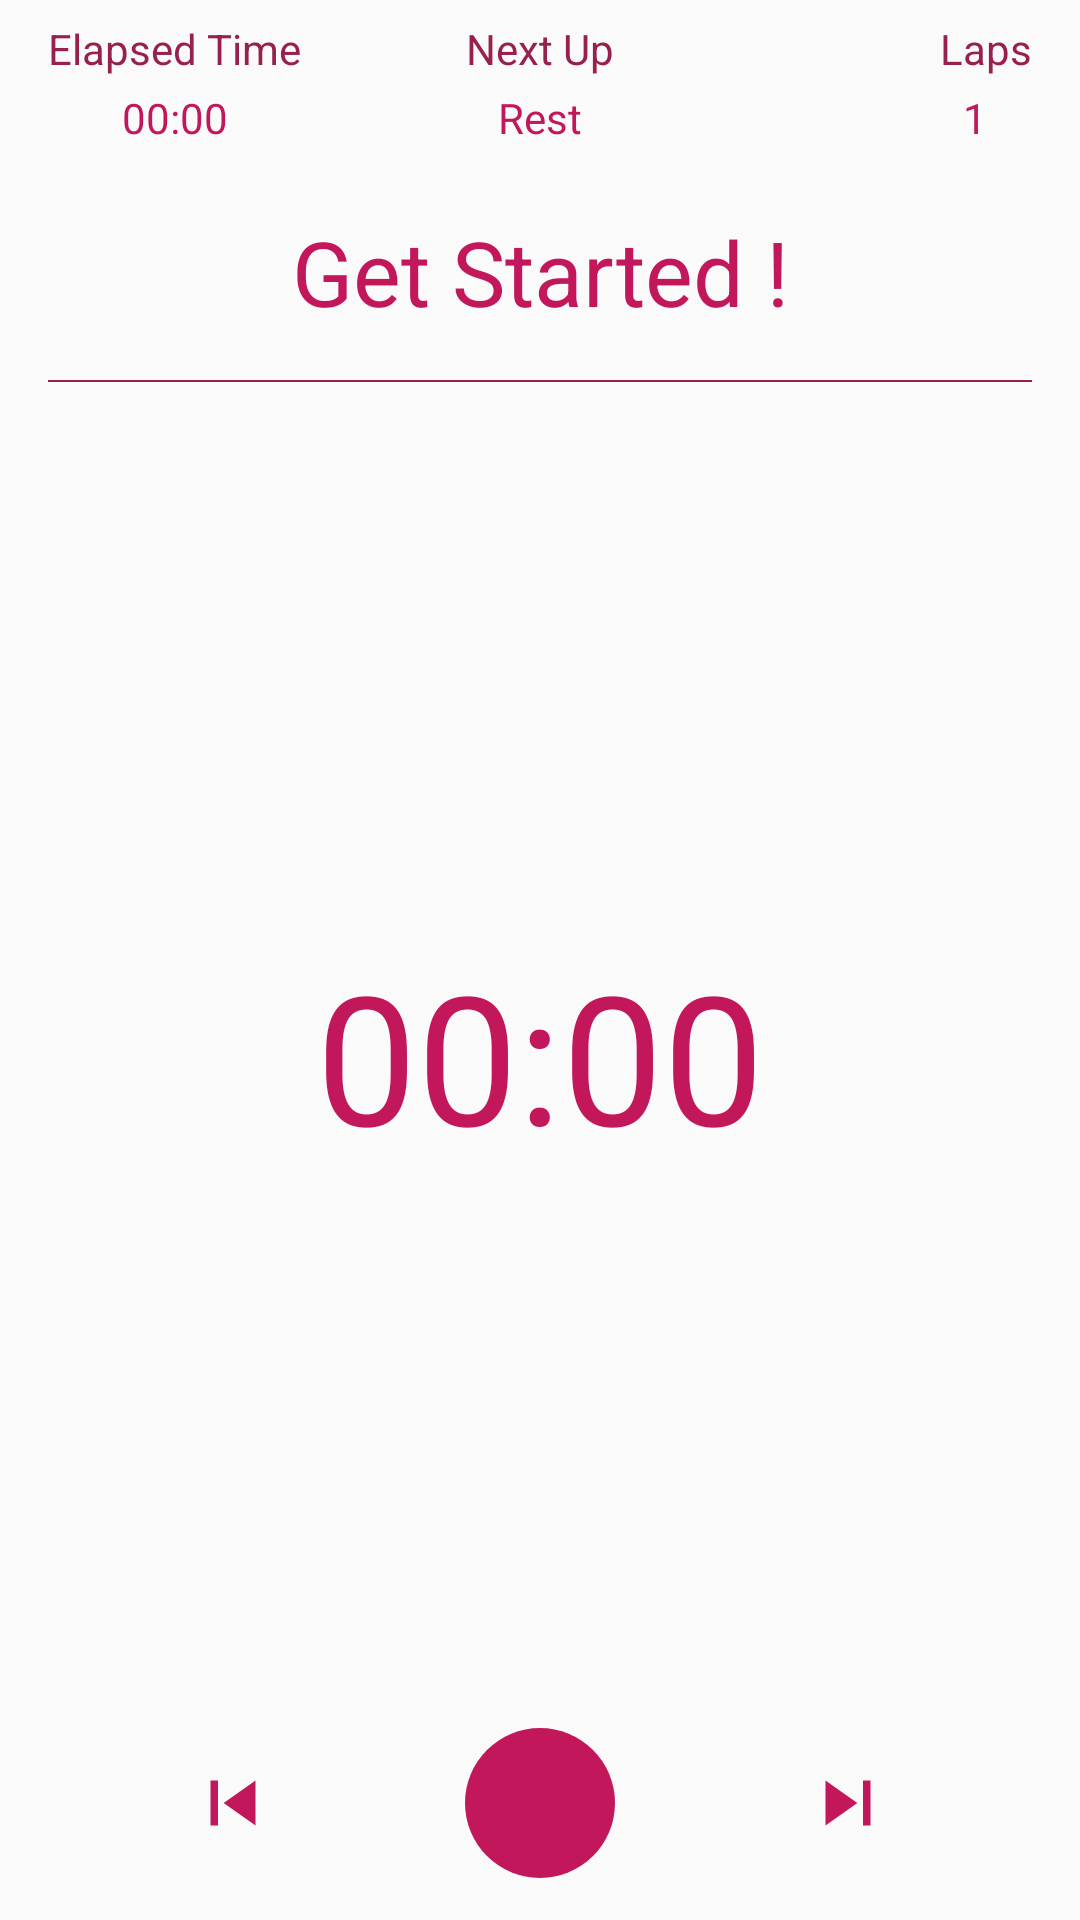

Point at icon controls on the screen. Image size 1080px x 1920px, points as [x,y].
skip next: [848,1803]
skip previous: [233,1803]
